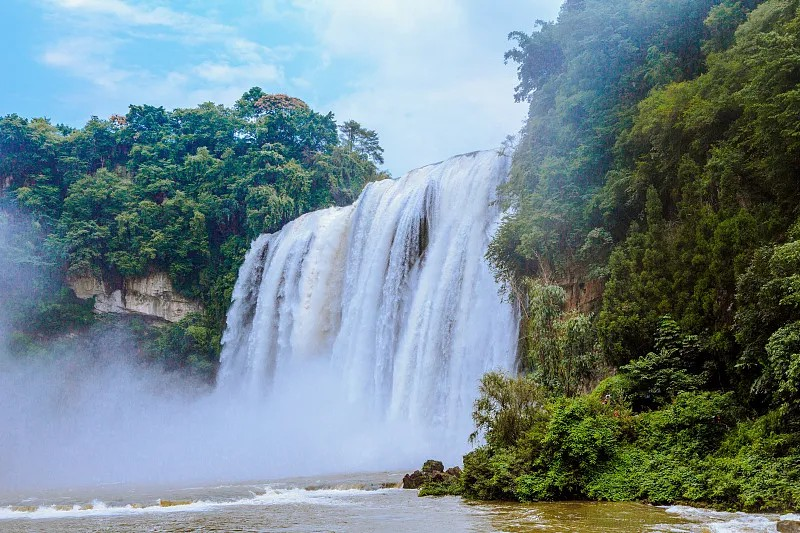Huangguoshu: (218, 148, 518, 472)
